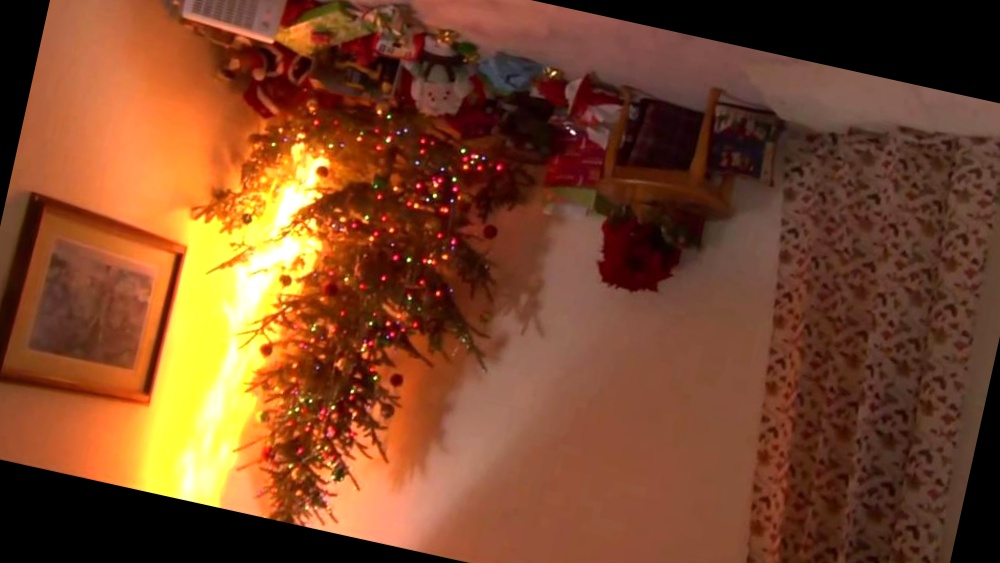fire: (127, 227, 307, 514)
